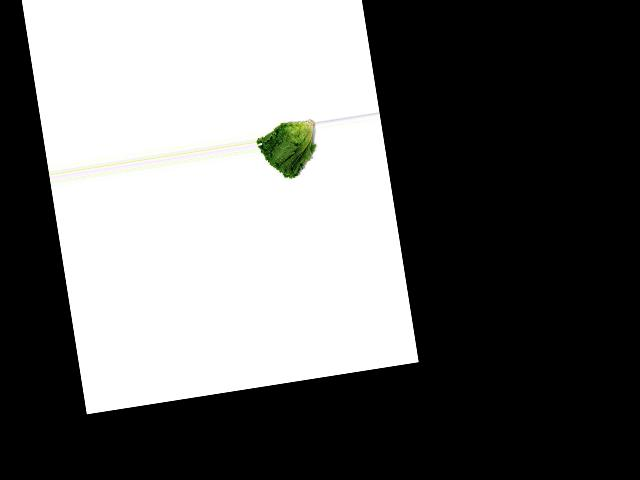lettuce: (253, 113, 324, 187)
